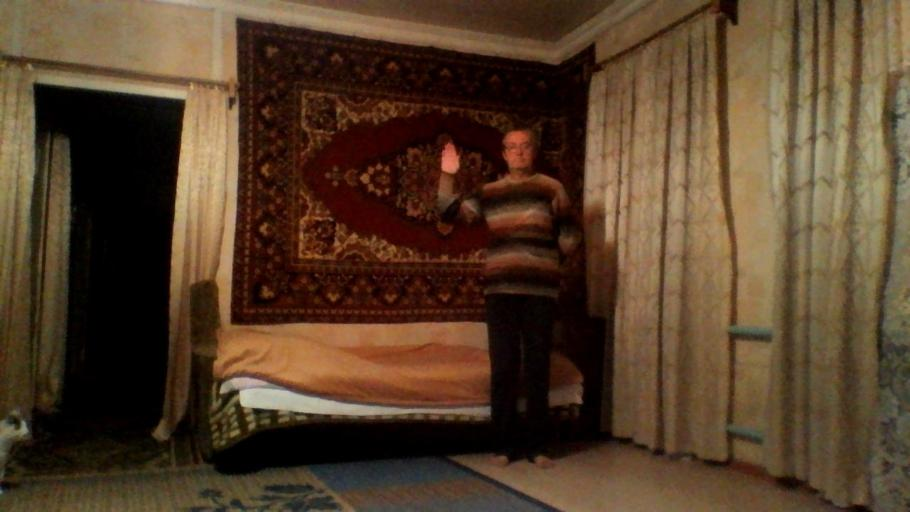stop: (438, 140, 461, 174)
